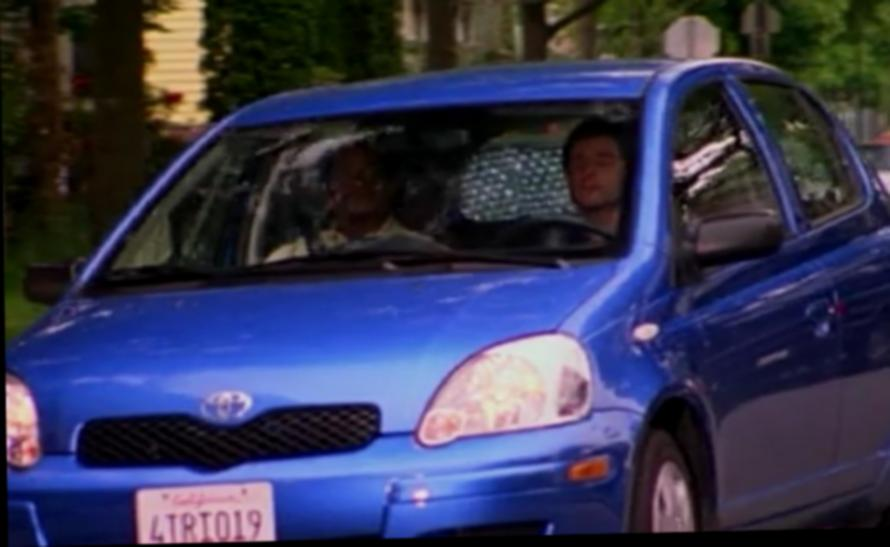License_Plate: (124, 474, 295, 544)
